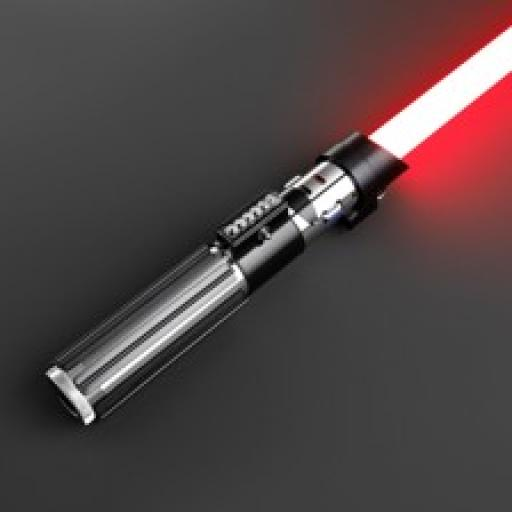lightsaber: (42, 23, 510, 430)
